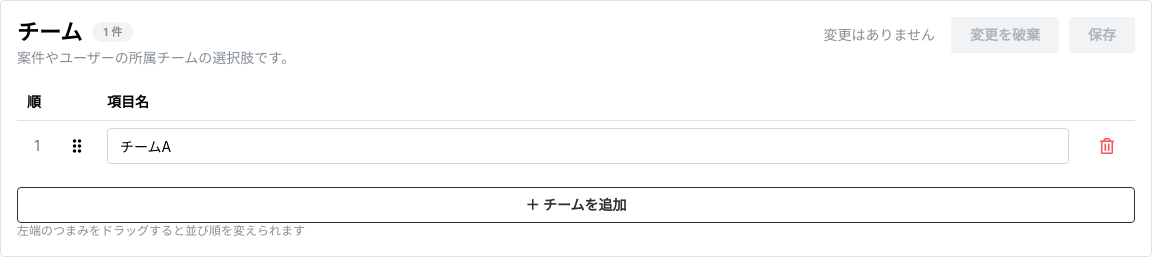
Test: optionRowsToSave › 編集パネルの表示（Issue #197） › 変更すると「n 件変更あり」を表示し、変更を破棄すると元に戻る
Step 1. Replace the text in the field showing "チームA" with "チームA2" → (588, 146), box [107,128,1069,164]
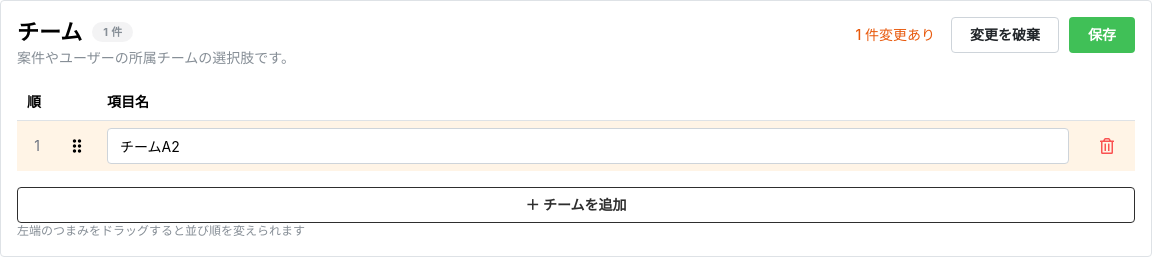
Expected: the text "1 件変更あり" is shown, [856,25,935,45]
Step 2. Click the button "変更を破棄" → (1005, 35), box [951,17,1059,53]
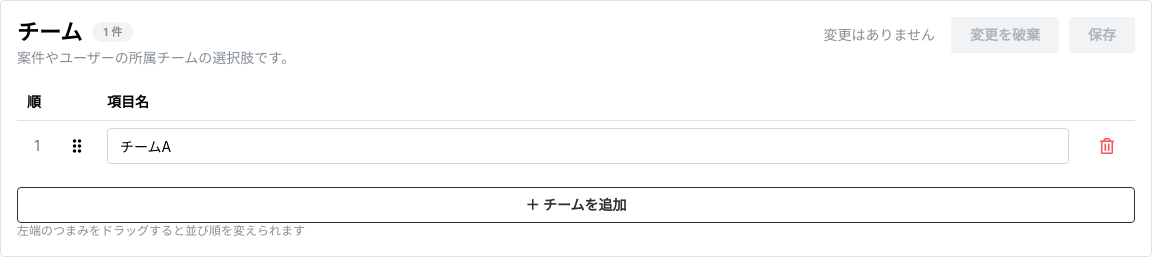
Expected: the field showing "チームA" is shown, [107,128,1069,164]
Expected: the text "変更はありません" is shown, [823,25,935,45]
